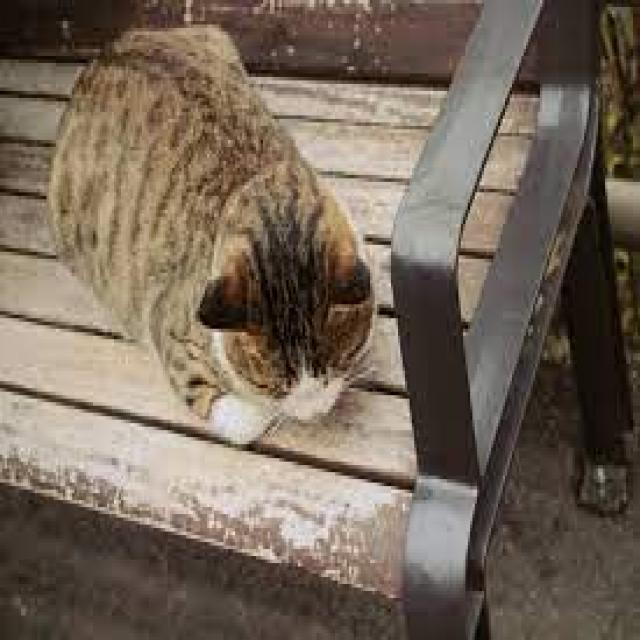cat: (45, 15, 381, 460)
